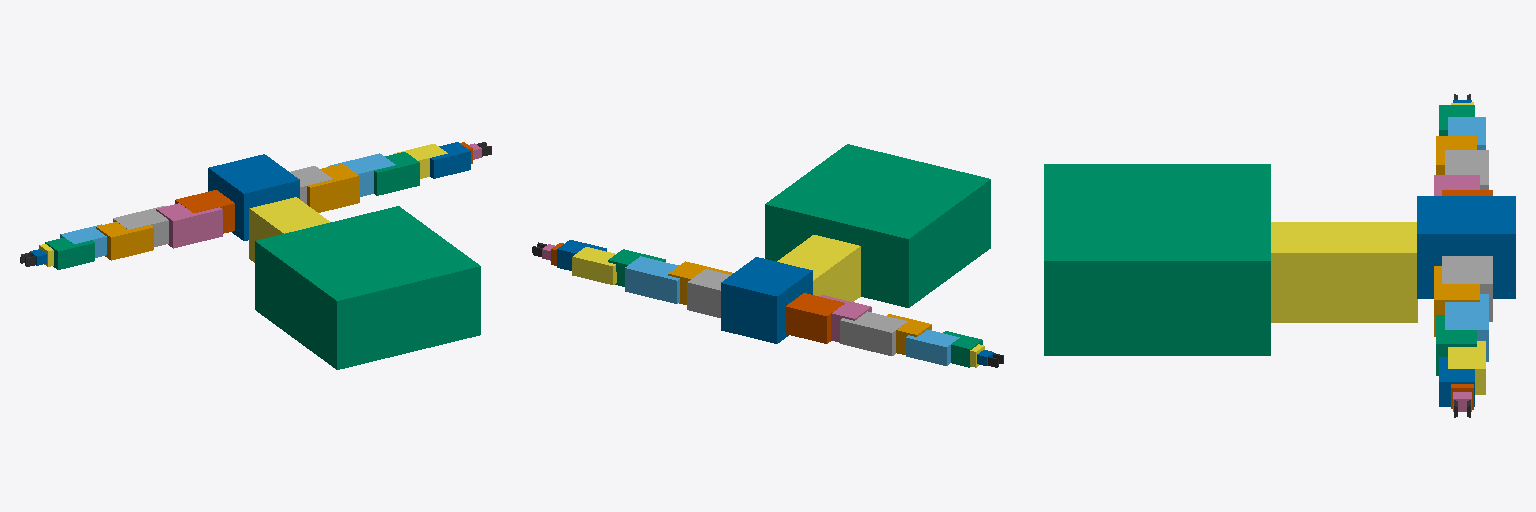
URDF robot description (Krang):
<?xml version="1.0" ?>
<!-- @file Krang.urdf -->
<!-- @author [author] -->
<!-- @date May 19, 2013 -->
<!-- @brief This file contains the .urdf definition for Krang with no dae files but only -->
<!-- bounding boxes for the dae files except the wheels (for fast loading in 05-fr). -->
<!-- TODO: Set the center of mass locations -->
<!-- TODO: Set the correct masses. Note that the dae models have the brackets divided in two and -->
<!-- connected to the middle motor for which we do not have measurements. -->
<!-- NOTE: The bounding box values are taken by finding the min and max values of the dae files. -->

<robot name="Krang">

	<!-- Links -->

	<link name = "LWheel"> 
    <inertial>
      <mass value="4.66"/>
      <inertia ixx="0.102019" ixy="2.45462e-05" ixz="0.00713022" iyy="0.0832724" iyz="-0.00131733" izz="0.086493"/>
      <origin xyz="0 0 0"/>
    </inertial>
		<visual> <geometry> <mesh filename="Base/oldwheel.dae" /> </geometry> </visual> 
		<collision> <geometry> <mesh filename="Base/oldwheel.dae" /> </geometry> </collision> 
	</link>

	<link name = "RWheel"> 
    <inertial>
      <mass value="4.66"/>
      <inertia ixx="0.102019" ixy="2.45462e-05" ixz="0.00713022" iyy="0.0832724" iyz="-0.00131733" izz="0.086493"/>
      <origin xyz="0 0 0"/>
    </inertial>
		<visual> <geometry> <mesh filename="Base/oldwheel.dae" /> </geometry> </visual> 
		<collision> <geometry> <mesh filename="Base/oldwheel.dae" /> </geometry> </collision> 
	</link>

	<link name = "Base"> 
    <inertial>
      <mass value="86.5"/>
      <inertia ixx="0.102019" ixy="2.45462e-05" ixz="0.00713022" iyy="0.0832724" iyz="-0.00131733" izz="0.086493"/>
      <origin xyz="0 0 0"/>
    </inertial>
		<visual> 
			<origin xyz="0.00225 0.2097395 0.006300"/>
      <geometry>
        <box size="0.7165 0.71048 0.32860"/>
      </geometry>
		</visual> 
		<collision> 
			<origin xyz="0.00225 0.2097395 0.006300"/>
      <geometry>
        <box size="0.7165 0.71048 0.32860"/>
      </geometry>
		</collision> 
	</link>

	<link name = "Spine"> 
    <inertial>
      <mass value="6.547"/>
      <inertia ixx="0.102019" ixy="2.45462e-05" ixz="0.00713022" iyy="0.0832724" iyz="-0.00131733" izz="0.086493"/>
      <origin xyz="0 0 0"/>
    </inertial>
		<visual> 
			<origin xyz="-0.026 0.230150 0.053887"/>
      <geometry>
        <box size="0.2340 0.59430 0.24097"/>
      </geometry>
		</visual> 
		<collision> 
			<origin xyz="-0.026 0.230150 0.053887"/>
      <geometry>
        <box size="0.2340 0.59430 0.24097"/>
      </geometry>
		</collision> 
	</link>

	<link name = "Bracket"> 
    <inertial>
      <mass value="3.11"/>
      <inertia ixx="0.102019" ixy="2.45462e-05" ixz="0.00713022" iyy="0.0832724" iyz="-0.00131733" izz="0.086493"/>
      <origin xyz="0 0 0"/>
    </inertial>
		<visual> <origin xyz="0.0012875 0.0971525 -0.0280530"/> <geometry> <box size="0.2815 0.30791 0.22611"/> </geometry> </visual> 
		<collision> <origin xyz="0.0012875 0.0971525 -0.0280530"/> <geometry> <box size="0.2815 0.30791 0.22611"/> </geometry> </collision> 
	</link>

	<link name = "L1"> 
    <inertial>
      <mass value="3.28"/>
      <inertia ixx="0.102019" ixy="2.45462e-05" ixz="0.00713022" iyy="0.0832724" iyz="-0.00131733" izz="0.086493"/>
      <origin xyz="0 0 0"/>
    </inertial>
		<visual> <origin xyz="0.015 -0.080866 0.0"/> <geometry> <box size="0.16 0.29367 0.13188"/> </geometry> </visual> 
		<collision> <origin xyz="0.015 -0.080866 0.0"/> <geometry> <box size="0.16 0.29367 0.13188"/> </geometry> </collision> 
	</link>

	<link name = "L2"> 
    <inertial>
      <mass value="3.76"/>
      <inertia ixx="0.102019" ixy="2.45462e-05" ixz="0.00713022" iyy="0.0832724" iyz="-0.00131733" izz="0.086493"/>
      <origin xyz="0 0 0"/>
    </inertial>
		<visual> <origin xyz="0.017042 -0.058309 0.0"/> <geometry> <box size="0.14591 0.24658 0.13"/> </geometry> </visual> 
		<collision> <origin xyz="0.017042 -0.058309 0.0"/> <geometry> <box size="0.14591 0.24658 0.13"/> </geometry> </collision> 
	</link>

	<link name = "L3"> 
    <inertial>
      <mass value="2.435"/>
      <inertia ixx="0.102019" ixy="2.45462e-05" ixz="0.00713022" iyy="0.0832724" iyz="-0.00131733" izz="0.086493"/>
      <origin xyz="0 0 0"/>
    </inertial>
		<visual> <origin xyz="0.014000 -0.075113 0.0"/> <geometry> <box size="0.13800 0.26217 0.11189"/> </geometry> </visual> 
		<collision> <origin xyz="0.014000 -0.075113 0.0"/> <geometry> <box size="0.13800 0.26217 0.11189"/> </geometry> </collision> 
	</link>

	<link name = "L4"> 
    <inertial>
      <mass value="2.356"/>
      <inertia ixx="0.102019" ixy="2.45462e-05" ixz="0.00713022" iyy="0.0832724" iyz="-0.00131733" izz="0.086493"/>
      <origin xyz="0 0 0"/>
    </inertial>
		<visual> <origin xyz="0.018200 -0.052050 0.0"/> <geometry> <box size="0.12960 0.2141 0.11"/> </geometry> </visual> 
		<collision> <origin xyz="0.018200 -0.052050 0.0"/> <geometry> <box size="0.12960 0.2141 0.11"/> </geometry> </collision> 
	</link>

	<link name = "L5"> 
    <inertial>
      <mass value="1.517"/>
      <inertia ixx="0.102019" ixy="2.45462e-05" ixz="0.00713022" iyy="0.0832724" iyz="-0.00131733" izz="0.086493"/>
      <origin xyz="0 0 0"/>
    </inertial>
		<visual> <origin xyz="0.0145115 -0.0571105 0.0000425"/> <geometry> <box size="0.117977 0.204179 0.089915"/> </geometry> </visual> 
		<collision> <origin xyz="0.0145115 -0.0571105 0.0000425"/> <geometry> <box size="0.117977 0.204179 0.089915"/> </geometry> </collision> 
	</link>

	<link name = "L6"> 
    <inertial>
      <mass value="1.428"/>
      <inertia ixx="0.102019" ixy="2.45462e-05" ixz="0.00713022" iyy="0.0832724" iyz="-0.00131733" izz="0.086493"/>
      <origin xyz="0 0 0"/>
    </inertial>
		<visual> <origin xyz="0.0175015 -0.0481615 0.0"/> <geometry> <box size="0.111977 0.185277 0.089"/> </geometry> </visual> 
		<collision> <origin xyz="0.0175015 -0.0481615 0.0"/> <geometry> <box size="0.111977 0.185277 0.089"/> </geometry> </collision> 
	</link>

	<link name = "LFT"> 
    <inertial>
      <mass value="1.206"/>
      <inertia ixx="0.102019" ixy="2.45462e-05" ixz="0.00713022" iyy="0.0832724" iyz="-0.00131733" izz="0.086493"/>
      <origin xyz="0 0 0"/>
    </inertial>
		<visual> <origin xyz="0.0 0.0111 0.0"/> <geometry> <box size="0.075 0.0462 0.075"/> </geometry> </visual> 
		<collision> <origin xyz="0.0 0.0111 0.0"/> <geometry> <box size="0.075 0.0462 0.075"/> </geometry> </collision> 
	</link>

	<link name = "lGripper">
		<visual> <origin xyz="0.0 0.0 0.0"/> <geometry> <box size="0.0616 0.0555 0.044"/> </geometry> </visual> 
		<collision> <origin xyz="0.0 0.0 0.0"/> <geometry> <box size="0.0616 0.0555 0.044"/> </geometry> </collision> 
	</link> 	

	<link name = "lgPlate1">
		<visual> <geometry> <mesh filename="Schunk/gripperPlate.dae" /> </geometry> </visual>
	</link> 	

	<link name = "lgPlate2">
		<visual> <geometry> <mesh filename="Schunk/gripperPlate.dae" /> </geometry> </visual>
	</link> 	

	<link name = "R1"> 
    <inertial>
      <mass value="3.28"/>
      <inertia ixx="0.102019" ixy="2.45462e-05" ixz="0.00713022" iyy="0.0832724" iyz="-0.00131733" izz="0.086493"/>
      <origin xyz="0 0 0"/>
    </inertial>
		<visual> <origin xyz="0.015 -0.080866 0.0"/> <geometry> <box size="0.16 0.29367 0.13188"/> </geometry> </visual> 
		<collision> <origin xyz="0.015 -0.080866 0.0"/> <geometry> <box size="0.16 0.29367 0.13188"/> </geometry> </collision> 
	</link>

	<link name = "R2"> 
    <inertial>
      <mass value="3.76"/>
      <inertia ixx="0.102019" ixy="2.45462e-05" ixz="0.00713022" iyy="0.0832724" iyz="-0.00131733" izz="0.086493"/>
      <origin xyz="0 0 0"/>
    </inertial>
		<visual> <origin xyz="0.017042 -0.058309 0.0"/> <geometry> <box size="0.14591 0.24658 0.13"/> </geometry> </visual> 
		<collision> <origin xyz="0.017042 -0.058309 0.0"/> <geometry> <box size="0.14591 0.24658 0.13"/> </geometry> </collision> 
	</link>

	<link name = "R3"> 
    <inertial>
      <mass value="2.435"/>
      <inertia ixx="0.102019" ixy="2.45462e-05" ixz="0.00713022" iyy="0.0832724" iyz="-0.00131733" izz="0.086493"/>
      <origin xyz="0 0 0"/>
    </inertial>
		<visual> <origin xyz="0.014000 -0.075113 0.0"/> <geometry> <box size="0.13800 0.26217 0.11189"/> </geometry> </visual> 
		<collision> <origin xyz="0.014000 -0.075113 0.0"/> <geometry> <box size="0.13800 0.26217 0.11189"/> </geometry> </collision> 
	</link>

	<link name = "R4"> 
    <inertial>
      <mass value="2.356"/>
      <inertia ixx="0.102019" ixy="2.45462e-05" ixz="0.00713022" iyy="0.0832724" iyz="-0.00131733" izz="0.086493"/>
      <origin xyz="0 0 0"/>
    </inertial>
		<visual> <origin xyz="0.018200 -0.052050 0.0"/> <geometry> <box size="0.12960 0.2141 0.11"/> </geometry> </visual> 
		<collision> <origin xyz="0.018200 -0.052050 0.0"/> <geometry> <box size="0.12960 0.2141 0.11"/> </geometry> </collision> 
	</link>

	<link name = "R5"> 
    <inertial>
      <mass value="1.517"/>
      <inertia ixx="0.102019" ixy="2.45462e-05" ixz="0.00713022" iyy="0.0832724" iyz="-0.00131733" izz="0.086493"/>
      <origin xyz="0 0 0"/>
    </inertial>
		<visual> <origin xyz="0.0145115 -0.0571105 0.0000425"/> <geometry> <box size="0.117977 0.204179 0.089915"/> </geometry> </visual> 
		<collision> <origin xyz="0.0145115 -0.0571105 0.0000425"/> <geometry> <box size="0.117977 0.204179 0.089915"/> </geometry> </collision> 
	</link>

	<link name = "R6"> 
    <inertial>
      <mass value="1.428"/>
      <inertia ixx="0.102019" ixy="2.45462e-05" ixz="0.00713022" iyy="0.0832724" iyz="-0.00131733" izz="0.086493"/>
      <origin xyz="0 0 0"/>
    </inertial>
		<visual> <origin xyz="0.0175015 -0.0481615 0.0"/> <geometry> <box size="0.111977 0.185277 0.089"/> </geometry> </visual> 
		<collision> <origin xyz="0.0175015 -0.0481615 0.0"/> <geometry> <box size="0.111977 0.185277 0.089"/> </geometry> </collision> 
	</link>

	<link name = "RFT"> 
    <inertial>
      <mass value="1.206"/>
      <inertia ixx="0.102019" ixy="2.45462e-05" ixz="0.00713022" iyy="0.0832724" iyz="-0.00131733" izz="0.086493"/>
      <origin xyz="0 0 0"/>
    </inertial>
		<visual> <origin xyz="0.0 0.0111 0.0"/> <geometry> <box size="0.075 0.0462 0.075"/> </geometry> </visual> 
		<collision> <origin xyz="0.0 0.0111 0.0"/> <geometry> <box size="0.075 0.0462 0.075"/> </geometry> </collision> 
	</link>

	<link name = "rGripper">
		<visual> <origin xyz="0.0 0.0 0.0"/> <geometry> <box size="0.0616 0.0555 0.044"/> </geometry> </visual> 
		<collision> <origin xyz="0.0 0.0 0.0"/> <geometry> <box size="0.0616 0.0555 0.044"/> </geometry> </collision> 
	</link> 	


	<link name = "rgPlate1">
		<visual> <geometry> <mesh filename="Schunk/gripperPlate.dae" /> </geometry> </visual>
	</link> 	

	<link name = "rgPlate2">
		<visual> <geometry> <mesh filename="Schunk/gripperPlate.dae" /> </geometry> </visual>
	</link> 	

	<!-- ======================================================================================================== -->
	<!-- ============================================ Joints ==================================================== -->
	<!-- ======================================================================================================== -->

	<joint name="JLWheel" type="revolute"> <parent link="Base" /> <child link="LWheel" />
		<origin xyz = "-0.354 0.0 0" rpy="0 0 0" />
		<axis xyz="1 0 0" /> <limit effort="1000" lower="-3.1416" upper="3.1416" velocity="0.1" />
	</joint>

	<joint name="JRWheel" type="revolute"> <parent link="Base" /> <child link="RWheel" />
		<origin xyz = "0.361 0.0 0" rpy="0 0 0" />
		<axis xyz="1 0 0" /> <limit effort="1000" lower="-3.1416" upper="3.1416" velocity="0.1" />
	</joint>

	<joint name="JWaist" type="revolute"> <parent link="Base" /> <child link="Spine" />
		<origin xyz = "0.026 0.499 -0.091" rpy="0 0 0" />
		<axis xyz="-1 0 0" /> <limit effort="1000" lower="0" upper="2.3" velocity="0.1" />
	</joint>

	<joint name="JTorso" type="revolute"> <parent link="Spine" /> <child link="Bracket" />
		<origin xyz = "-0.0285 0.584 0.1088" rpy="0 3.1416 0" />
		<axis xyz="0 -1 0" /> <limit effort="1000" lower="-0.8" upper="0.8" velocity="0.1" />
	</joint>

	<joint name="LJ1" type="revolute"> <parent link="Bracket" /> <child link="L1" />
		<origin xyz = "0.2823 0.0845 0" rpy="0 3.1416 -1.5708" />
		<axis xyz="0 -1 0" /> <limit effort="1000" lower="-3.1416" upper="3.1416" velocity="0.1" />
	</joint>

	<joint name="LJ2" type="revolute"> <parent link="L1" /> <child link="L2" />
		<origin xyz="0 0.0 0" rpy="3.14 3.14 0" />
		<axis xyz="-1 0 0" /> <limit effort="1000" lower="-2.094" upper="2.094" velocity="0.1" />
	</joint>

	<joint name="LJ3" type="revolute"> <parent link="L2" /> <child link="L3" />
		<origin xyz="0 -0.328 0" rpy="-3.1416 -3.1416 0" />
		<axis xyz="0 -1 0" /> <limit effort="1000" lower="-3.1416" upper="3.1416" velocity="0.1" />
	</joint>

	<joint name="LJ4" type="revolute"> <parent link="L3" /> <child link="L4" />
		<origin xyz="0 0 0" rpy="3.1416 3.1416 0" />
		<axis xyz="-1 0 0" /> <limit effort="1000" lower="-2.094" upper="2.094" velocity="0.1" />
	</joint>

	<joint name="LJ5" type="revolute"> <parent link="L4" /> <child link="L5" />
		<origin xyz="0 -0.2765 0" rpy="3.1416 3.1416 0" />
		<axis xyz="0 -1 0" /> <limit effort="1000" lower="-3.1416" upper="3.1416" velocity="0.1" />
	</joint>

	<joint name="LJ6" type="revolute"> <parent link="L5" /> <child link="L6" />
		<origin xyz="0 0 0" rpy="3.1416 3.1416 0" />
		<axis xyz="-1 0 0" /> <limit effort="1000" lower="-2.094" upper="2.094" velocity="0.1" />
	</joint>

	<!-- For some reason, I had to negate the axis to make sure the motor turns like the others -->
	<joint name="LJFT" type="revolute"> <parent link="L6" /> <child link="LFT" />
		<origin xyz="0 -0.159 0" rpy="0 0 0" />
		<axis xyz="0 1 0" /> <limit effort="1000" lower="-3.1416" upper="3.1416" velocity="0.1" />
	</joint>

	<joint name="LMotorGripper" type="fixed"> <parent link="LFT" /> <child link="lGripper" />
		<origin xyz="0.0 -0.035 0" rpy="3.1416 0 0" />
		<axis xyz="1 0 0" /> <limit effort="1000" lower="-2.094" upper="2.094" velocity="0.1" />
	</joint>

	<joint name="LMotorPlate1" type="fixed"> <parent link="lGripper" /> <child link="lgPlate1" />
		<origin xyz="-0.025 0.028 0.0" rpy="1.57 0.0 0" />
		<axis xyz="1 0 0" /> <limit effort="1000" lower="0.0" upper="0.0135" velocity="0.1" />
	</joint>

	<joint name="LMotorPlate2" type="fixed"> <parent link="lGripper" /> <child link="lgPlate2" />
		<origin xyz="0.025 0.028 0.0" rpy="1.57 3.1416 0" />
		<axis xyz="1 0 0" /> <limit effort="1000" lower="0.0" upper="0.0135" velocity="0.1" />
	</joint>

	<!-- Right arm -->

	<joint name="RJ1" type="revolute"> <parent link="Bracket" /> <child link="R1" />
		<origin xyz = "-0.2823 0.0845 0" rpy="0 0 1.5708" />
		<axis xyz="0 -1 0" /> <limit effort="1000" lower="-3.1416" upper="3.1416" velocity="0.1" />
	</joint>

	<joint name="RJ2" type="revolute"> <parent link="R1" /> <child link="R2" />
		<origin xyz="0 0.0 0" rpy="3.14 3.14 0" />
		<axis xyz="-1 0 0" /> <limit effort="1000" lower="-2.094" upper="2.094" velocity="0.1" />
	</joint>

	<joint name="RJ3" type="revolute"> <parent link="R2" /> <child link="R3" />
		<origin xyz="0 -0.328 0" rpy="-3.1416 -3.1416 0" />
		<axis xyz="0 -1 0" /> <limit effort="1000" lower="-3.1416" upper="3.1416" velocity="0.1" />
	</joint>

	<joint name="RJ4" type="revolute"> <parent link="R3" /> <child link="R4" />
		<origin xyz="0 0 0" rpy="3.1416 3.1416 0" />
		<axis xyz="-1 0 0" /> <limit effort="1000" lower="-2.094" upper="2.094" velocity="0.1" />
	</joint>

	<joint name="RJ5" type="revolute"> <parent link="R4" /> <child link="R5" />
		<origin xyz="0 -0.2765 0" rpy="3.1416 3.1416 0" />
		<axis xyz="0 -1 0" /> <limit effort="1000" lower="-3.1416" upper="3.1416" velocity="0.1" />
	</joint>

	<joint name="RJ6" type="revolute"> <parent link="R5" /> <child link="R6" />
		<origin xyz="0 0 0" rpy="3.1416 3.1416 0" />
		<axis xyz="-1 0 0" /> <limit effort="1000" lower="-2.094" upper="2.094" velocity="0.1" />
	</joint>

	<joint name="RJFT" type="revolute"> <parent link="R6" /> <child link="RFT" />
		<origin xyz="0 -0.159 0" rpy="0 0 0" />
		<axis xyz="0 1 0" /> <limit effort="1000" lower="-3.1416" upper="3.1416" velocity="0.1" />
	</joint>

	<joint name="RMotorGripper" type="fixed"> <parent link="RFT" /> <child link="rGripper" />
		<origin xyz="0 -0.035 0" rpy="3.1416 0 0" />
		<axis xyz="1 0 0" /> <limit effort="1000" lower="-2.094" upper="2.094" velocity="0.1" />
	</joint>

	<joint name="RMotorPlate1" type="fixed"> <parent link="rGripper" /> <child link="rgPlate1" />
		<origin xyz="-0.025 0.028 0.0" rpy="1.57 0.0 0" />
		<axis xyz="1 0 0" /> <limit effort="1000" lower="0.0" upper="0.0135" velocity="0.1" />
	</joint>

	<joint name="RMotorPlate2" type="fixed"> <parent link="rGripper" /> <child link="rgPlate2" />
		<origin xyz="0.025 0.028 0.0" rpy="1.57 3.1416 0" />
		<axis xyz="1 0 0" /> <limit effort="1000" lower="0.0" upper="0.0135" velocity="0.1" />
	</joint>

</robot>

--- Render facts (derived) ---
3 views of the same robot in one strip: view 1: azimuth 30°, elevation 25°; view 2: azimuth 150°, elevation 25°; view 3: azimuth 270°, elevation 25° (orthographic).
Model Krang with 25 links and 24 joints (18 revolute, 6 fixed), rooted at Base, posed every joint at zero.
Links seen in each view (by area): view 1: Base, Bracket, Spine, L2, R2, L4, R4, L1, L6, R6, L3, R3 (+3 smaller); view 2: Base, Bracket, Spine, L1, L3, R3, R1, L5, R5, L2, L6, R2 (+3 smaller); view 3: Base, Spine, Bracket, R1, R3, L3, R5, R2, R4, R6, L5, L4 (+2 smaller).
Link boxes in pixels (bbox=[...]): Base: bbox=[255, 206, 480, 369]; Bracket: bbox=[208, 154, 299, 240]; Spine: bbox=[249, 197, 329, 262]; L2: bbox=[156, 203, 222, 248]; R2: bbox=[307, 164, 359, 212]; L4: bbox=[96, 222, 153, 260]; R4: bbox=[374, 152, 419, 195]; L1: bbox=[175, 190, 234, 233]; L6: bbox=[45, 237, 94, 269]; R6: bbox=[430, 142, 470, 178]; L3: bbox=[113, 206, 168, 246]; R3: bbox=[328, 153, 395, 196]; Base: bbox=[765, 144, 990, 307]; Bracket: bbox=[721, 257, 812, 343]; Spine: bbox=[777, 235, 860, 301]; L1: bbox=[786, 293, 844, 343]; L3: bbox=[840, 311, 907, 355]; R3: bbox=[625, 256, 679, 303]; R1: bbox=[687, 269, 730, 317]; L5: bbox=[906, 330, 959, 365]; R5: bbox=[572, 247, 616, 284]; L2: bbox=[819, 295, 871, 342]; L6: bbox=[943, 331, 982, 367]; R2: bbox=[668, 261, 732, 304]; Base: bbox=[1044, 164, 1270, 355]; Spine: bbox=[1271, 222, 1417, 322]; Bracket: bbox=[1417, 196, 1515, 298]; R1: bbox=[1442, 256, 1492, 321]; R3: bbox=[1445, 294, 1488, 361]; L3: bbox=[1445, 150, 1488, 189]; R5: bbox=[1448, 341, 1485, 394]; R2: bbox=[1434, 266, 1479, 336]; R4: bbox=[1436, 315, 1476, 375]; R6: bbox=[1439, 357, 1474, 406]; L5: bbox=[1448, 117, 1485, 149]; L4: bbox=[1436, 136, 1476, 174].
Size in the robot's own frame: 2.32 by 1.48 by 0.3286 metres.
Meshes: 2 distinct files referenced, 4 mesh visuals loaded (1 Collada DAE); not drawn: 2 (reference not matched to a file when rendering).